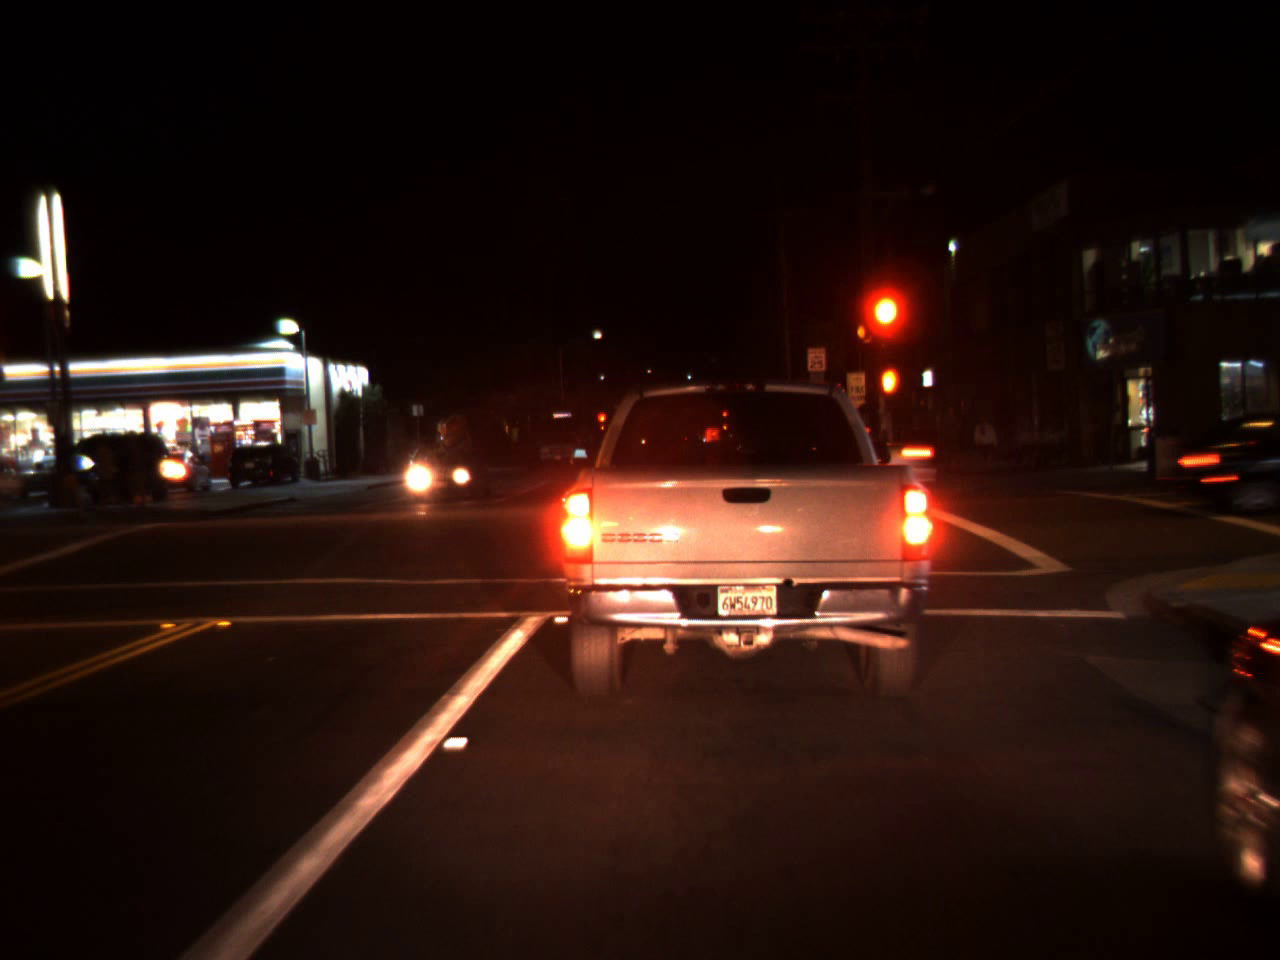stop: (868, 293, 904, 357), (596, 412, 608, 433)
